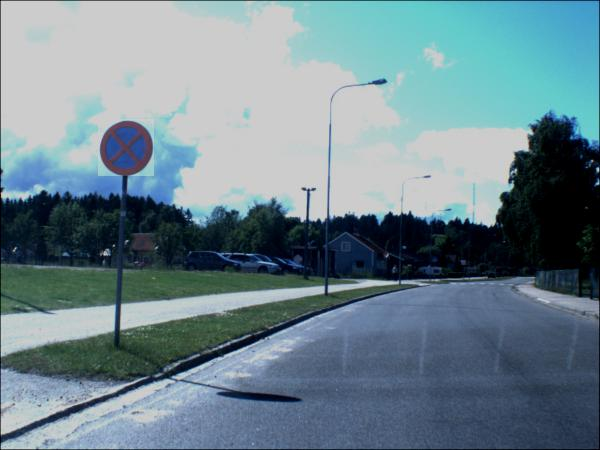NO_PARKING: (409, 260, 415, 266), (461, 261, 467, 267)
NO_STOPPING_NO_STANDING: (98, 120, 155, 178)
PEDESTRIAN_CROSSING: (431, 257, 439, 265)
